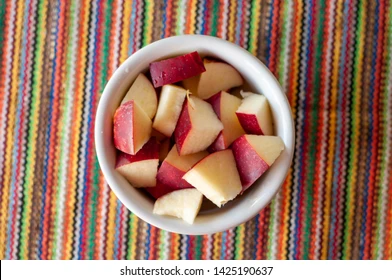apple: (111, 51, 287, 226)
